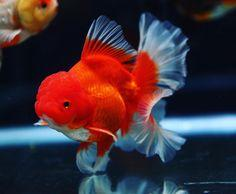goldfish: (31, 41, 187, 167)
